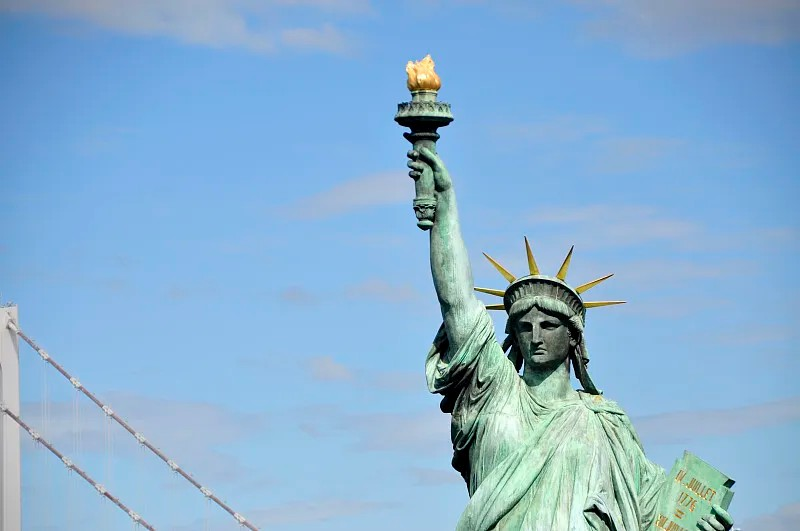SL: (393, 52, 738, 531)
